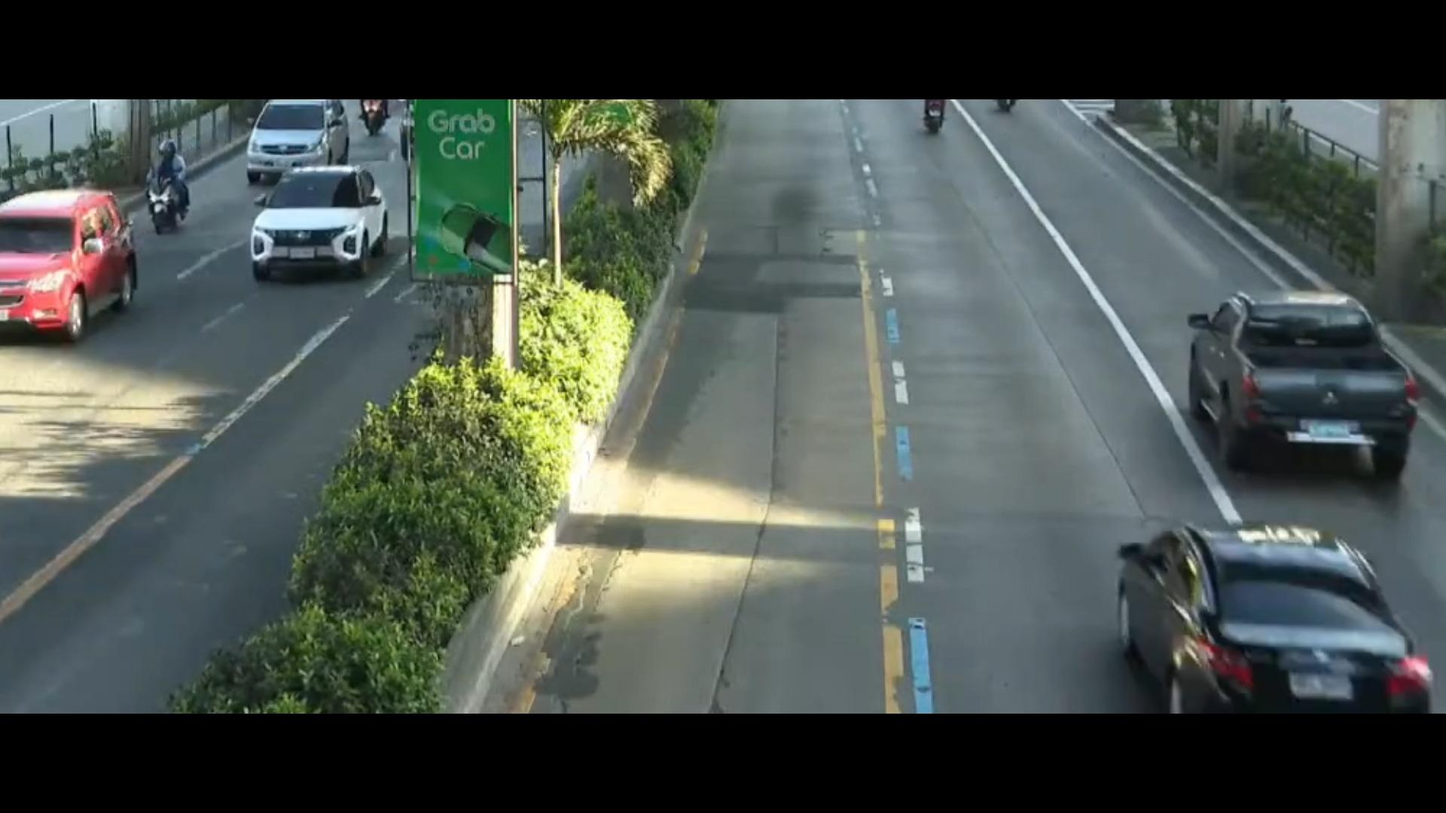Motorcycle: (137, 126, 200, 241)
Pickup: (1158, 253, 1446, 491)
SUV: (0, 190, 155, 346), (230, 160, 413, 289), (224, 96, 351, 200)
Sedan: (1077, 488, 1430, 712)
